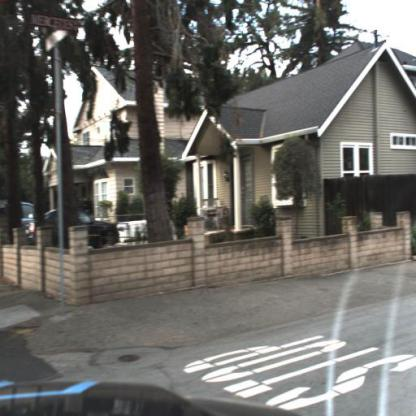car: (23, 211, 120, 250)
